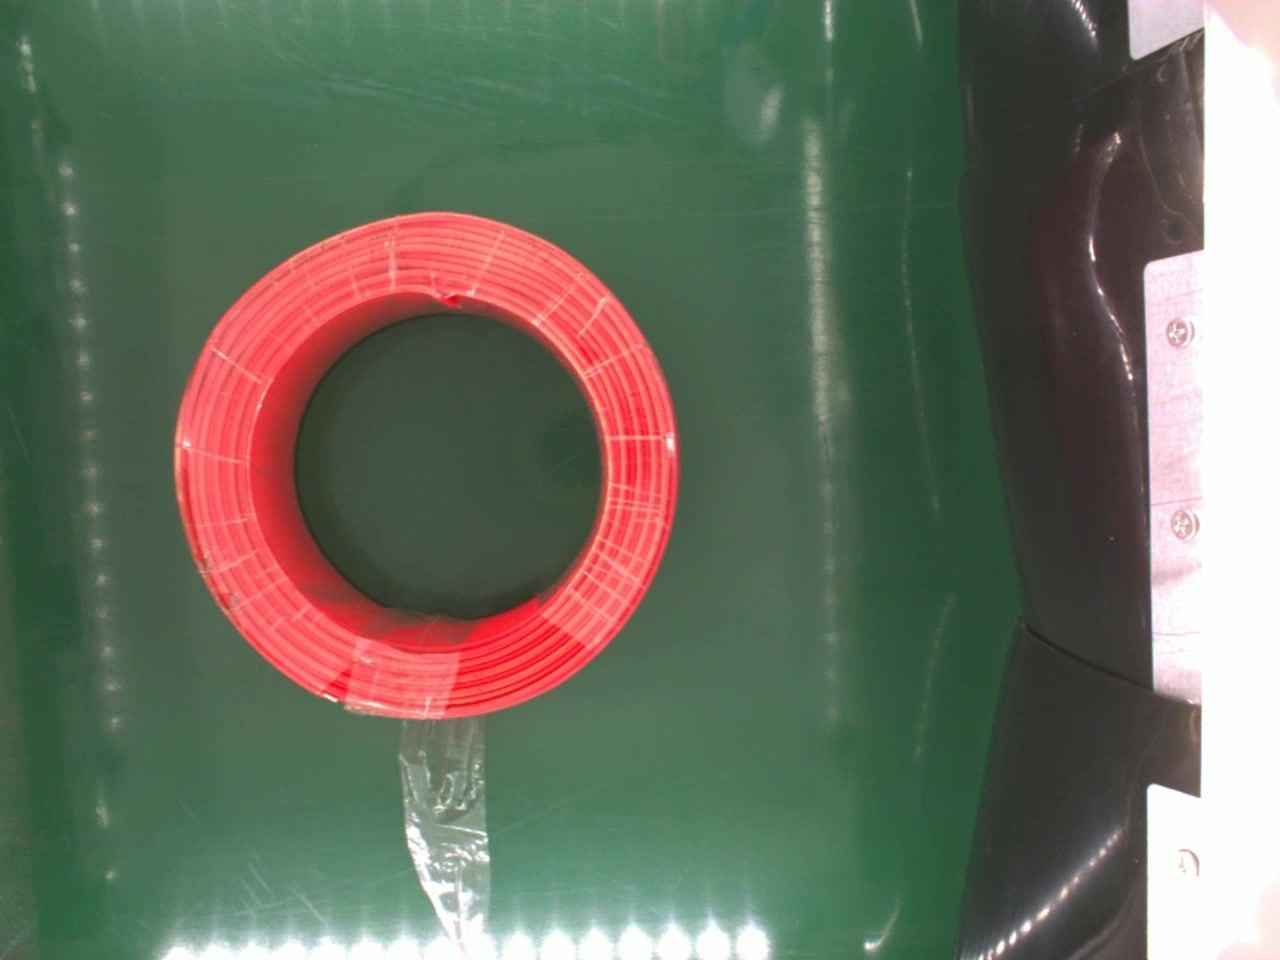red: (170, 208, 684, 731)
